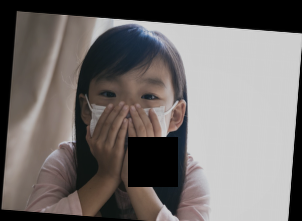with_mask: (84, 73, 174, 171)
